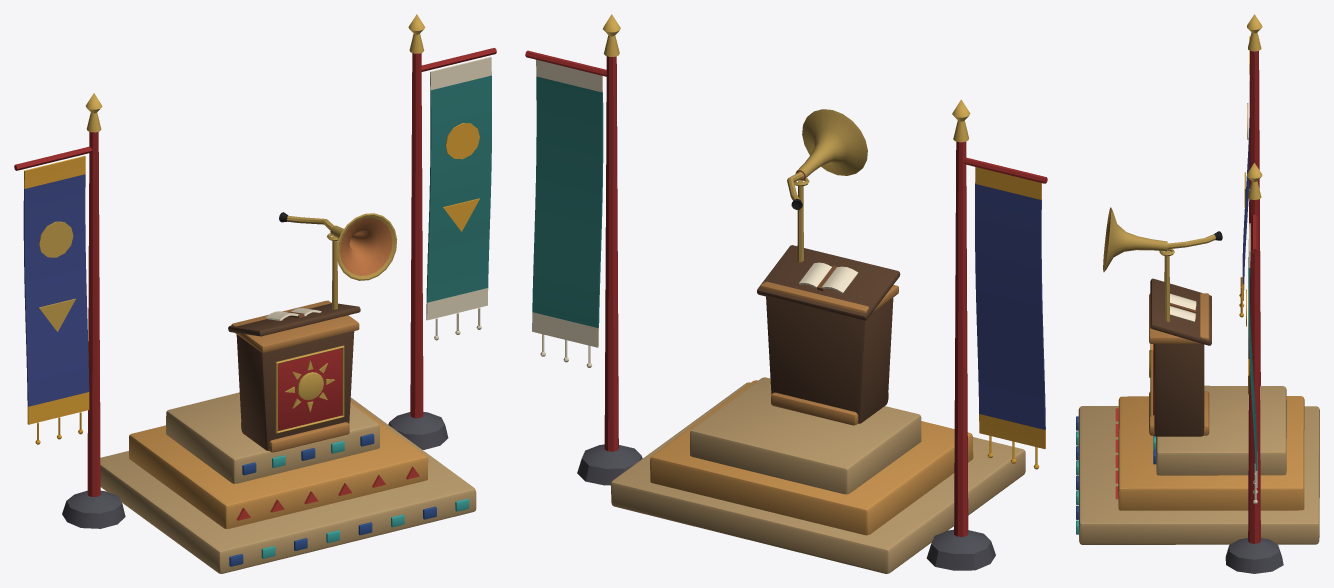
The model's file is deco_podium.fbx.
The picture shows the model from 3 angles, left to right: view 1: azimuth 30°, elevation 25°; view 2: azimuth 150°, elevation 25°; view 3: azimuth 270°, elevation 25°; orthographic projection. The views are drawn at different scales.
Parts seen in each view (by area): view 1: Podium_Banners, Podium_Steps, Podium_Podium, Podium_Horn; view 2: Podium_Banners, Podium_Steps, Podium_Podium, Podium_Horn; view 3: Podium_Steps, Podium_Podium, Podium_Banners, Podium_Horn.
Boxes of the visible parts, box(x1,y1,x2,y2) form: Podium_Banners: box(14, 14, 496, 528); Podium_Steps: box(100, 392, 476, 573); Podium_Podium: box(228, 300, 360, 452); Podium_Horn: box(279, 212, 397, 309); Podium_Banners: box(525, 14, 1047, 570); Podium_Steps: box(610, 377, 1025, 573); Podium_Podium: box(757, 245, 900, 425); Podium_Horn: box(787, 109, 867, 262); Podium_Steps: box(1076, 385, 1319, 544); Podium_Podium: box(1149, 278, 1211, 436); Podium_Banners: box(1225, 14, 1283, 573); Podium_Horn: box(1103, 207, 1222, 321).
Bounding box in the file's own units: 520 × 438 × 243.
